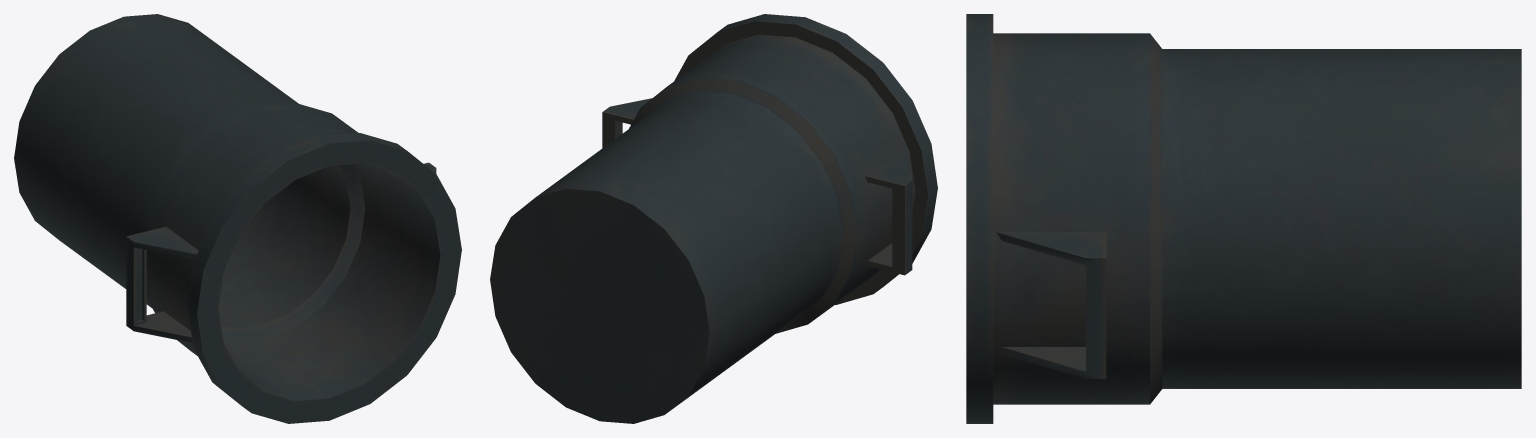
Rendered from bin.fbx.
3 renders of one model, left to right at view 1: azimuth 30°, elevation 25°; view 2: azimuth 150°, elevation 25°; view 3: azimuth 270°, elevation 25°, orthographic. The views are drawn at different scales.
Parts seen in each view (by area): view 1: MainBin, Handles; view 2: MainBin, Handles; view 3: MainBin, Handles.
Boxes of the visible parts, bbox=[...] form: MainBin: bbox=[14, 14, 461, 423]; Handles: bbox=[126, 162, 436, 342]; MainBin: bbox=[490, 14, 937, 423]; Handles: bbox=[602, 98, 912, 275]; MainBin: bbox=[966, 14, 1521, 423]; Handles: bbox=[996, 232, 1106, 378].
Size of the model in its own units: 551 by 482 by 648.
Materials: 1 (1 with a texture image).
